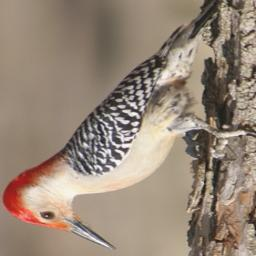Woodpecker: (0, 0, 256, 251)
